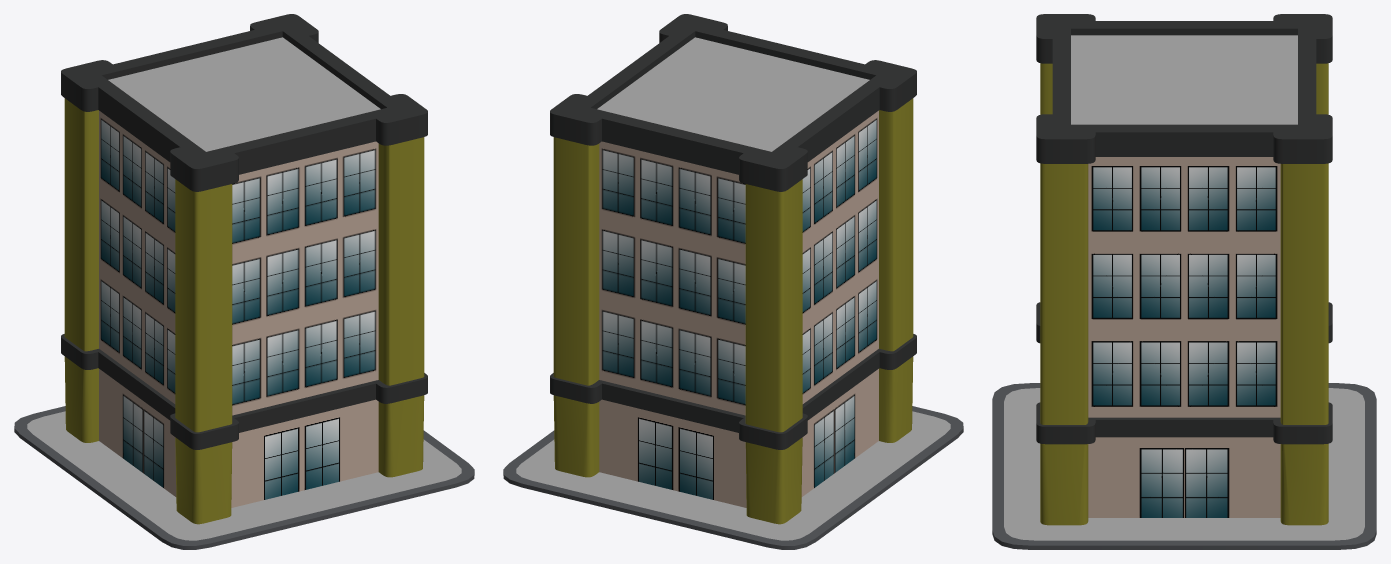
Rendered from Mafia_Bat_1.fbx.
3 renders of one model, left to right at view 1: azimuth 30°, elevation 25°; view 2: azimuth 150°, elevation 25°; view 3: azimuth 270°, elevation 25°, orthographic. The views are drawn at different scales.
Visible parts, largest first — view 1: Mafia_Bat_1; view 2: Mafia_Bat_1; view 3: Mafia_Bat_1.
Part boxes in pixels (bbox=[...]): Mafia_Bat_1: bbox=[14, 14, 474, 549]; Mafia_Bat_1: bbox=[503, 14, 963, 549]; Mafia_Bat_1: bbox=[992, 14, 1376, 549].
Size of the model in its own units: 315 by 354 by 315.
